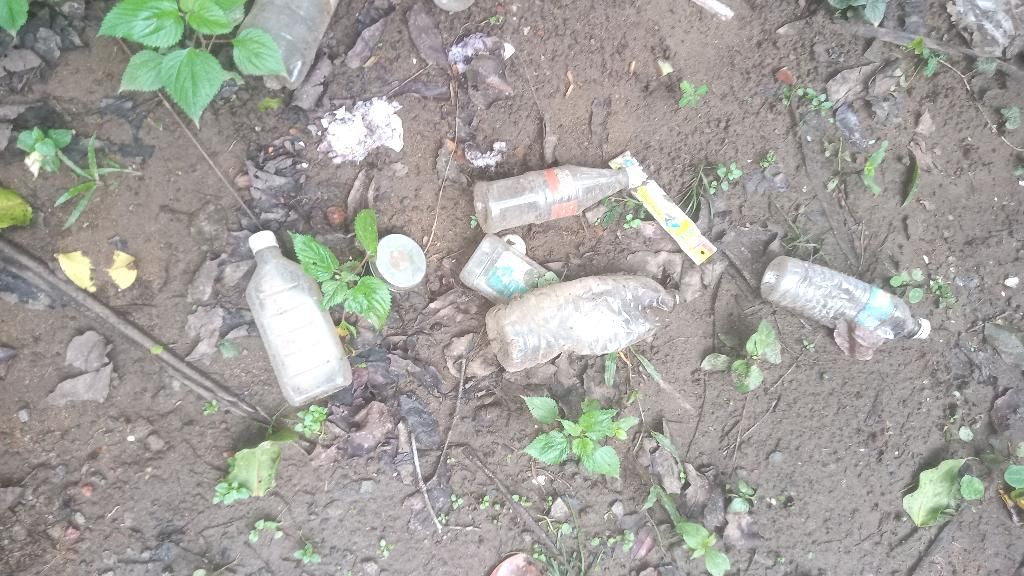garbage: (244, 220, 342, 407), (756, 246, 934, 346), (478, 274, 689, 357), (463, 161, 659, 233), (448, 232, 567, 300), (231, 9, 334, 84), (642, 134, 685, 283)
